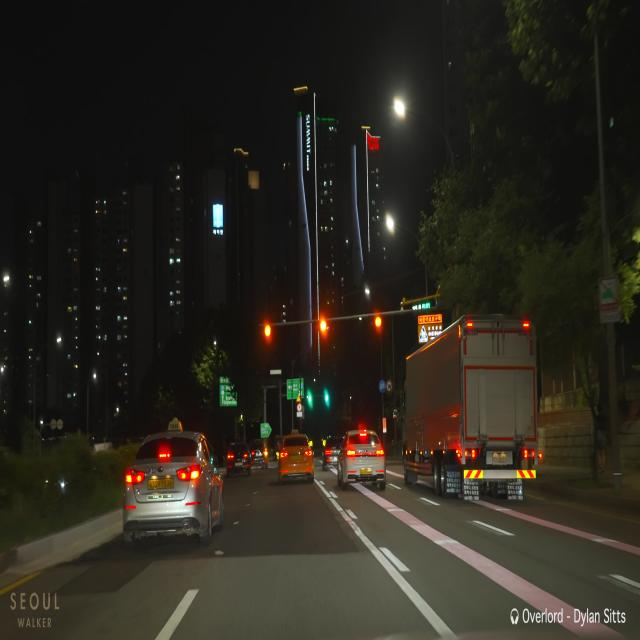Yellow Light: (264, 324, 272, 337), (374, 316, 382, 328), (319, 320, 326, 332)
